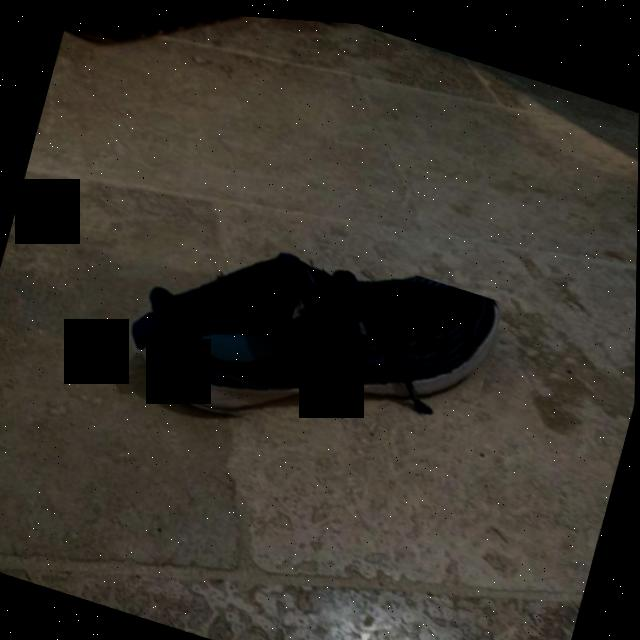shoe: (115, 191, 506, 486)
